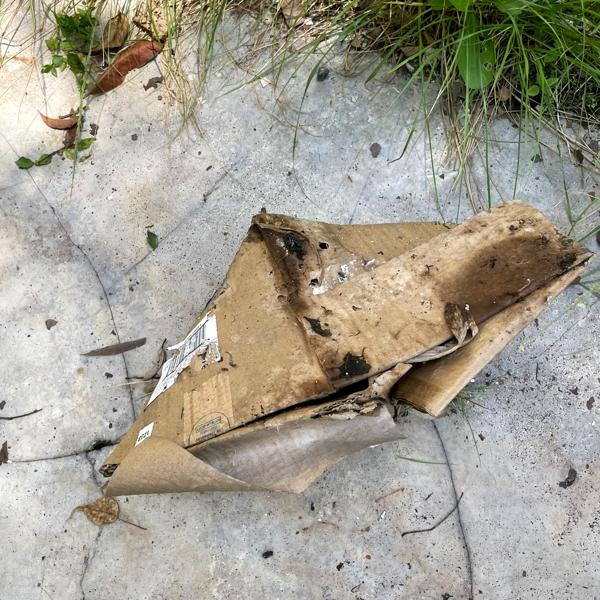Organik: (94, 203, 561, 499)
